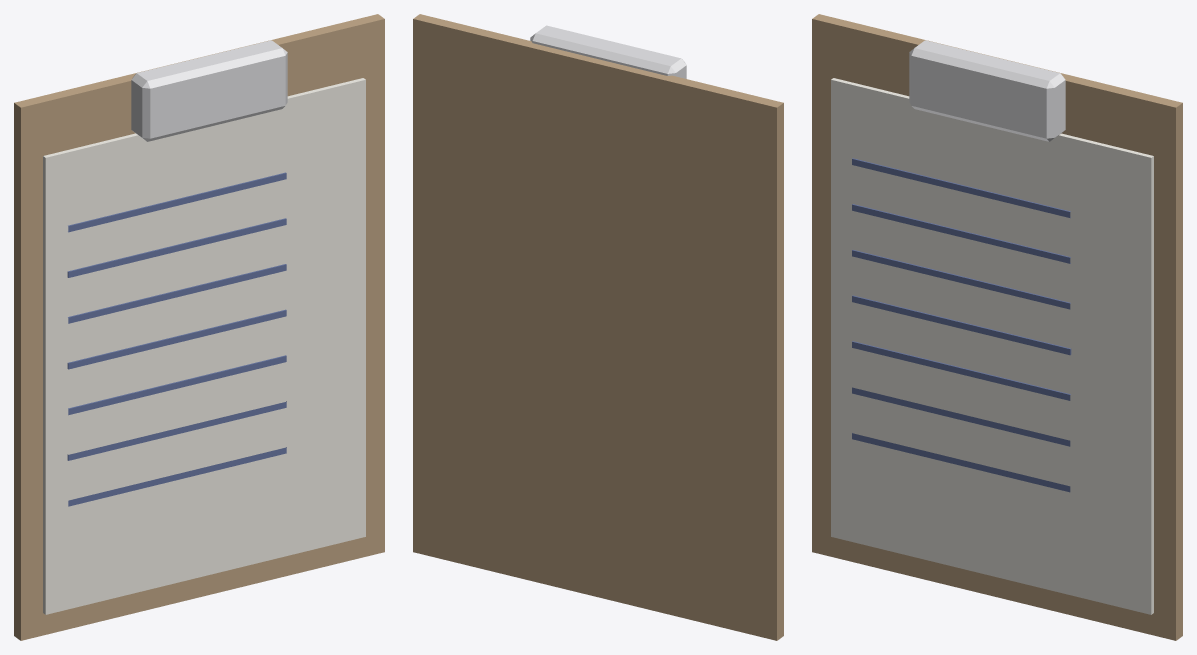
Rendered from clipboard_chart.glb.
The picture shows the model from 3 angles, left to right: view 1: azimuth 30°, elevation 25°; view 2: azimuth 150°, elevation 25°; view 3: azimuth 330°, elevation 25°; orthographic projection.
Parts seen in each view (by area): view 1: clipboard_chart; view 2: clipboard_chart; view 3: clipboard_chart.
Boxes of the visible parts, x1,y1,x2,y2 form: clipboard_chart: (14, 14, 384, 640); clipboard_chart: (413, 14, 783, 640); clipboard_chart: (812, 14, 1182, 640).
Size of the model in its own units: 0.25 by 0.355 by 0.026.
